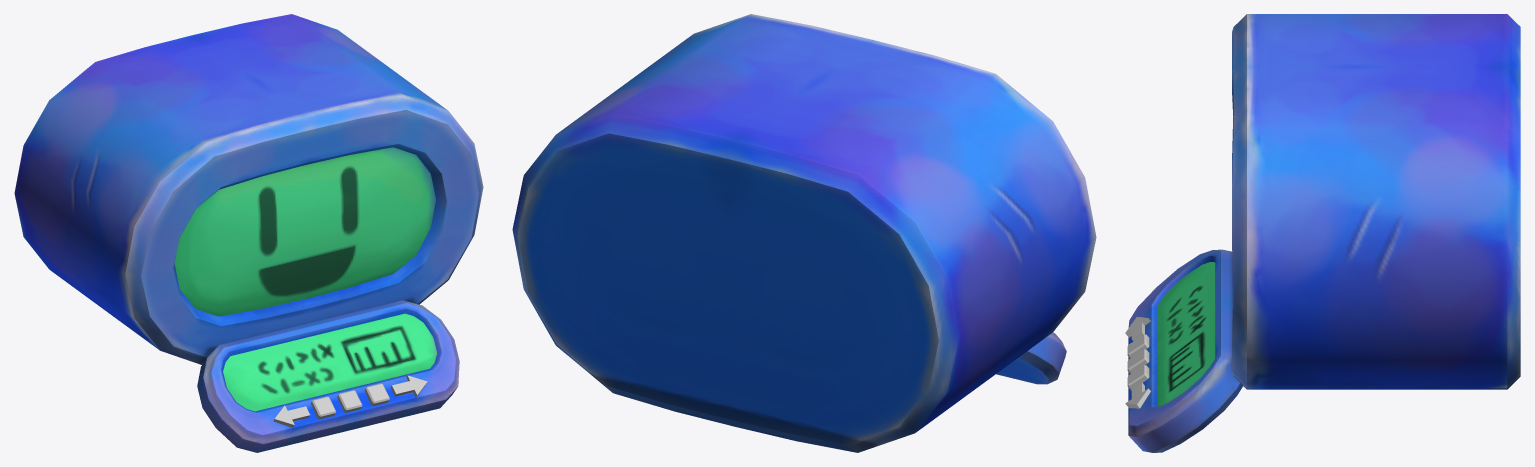
Rendered from SmileFace.FBX.
3 views of the same model, side by side, from view 1: azimuth 30°, elevation 25°; view 2: azimuth 150°, elevation 25°; view 3: azimuth 270°, elevation 25° (orthographic). The views are drawn at different scales.
Visible parts, largest first — view 1: Ordenador; view 2: Ordenador; view 3: Ordenador.
Boxes of the visible parts, box(x1,y1,x2,y2) form: Ordenador: box(14, 14, 483, 452); Ordenador: box(512, 14, 1096, 452); Ordenador: box(1125, 14, 1520, 452).
Bounding box in the file's own units: 98.96 × 80.51 × 74.7.
